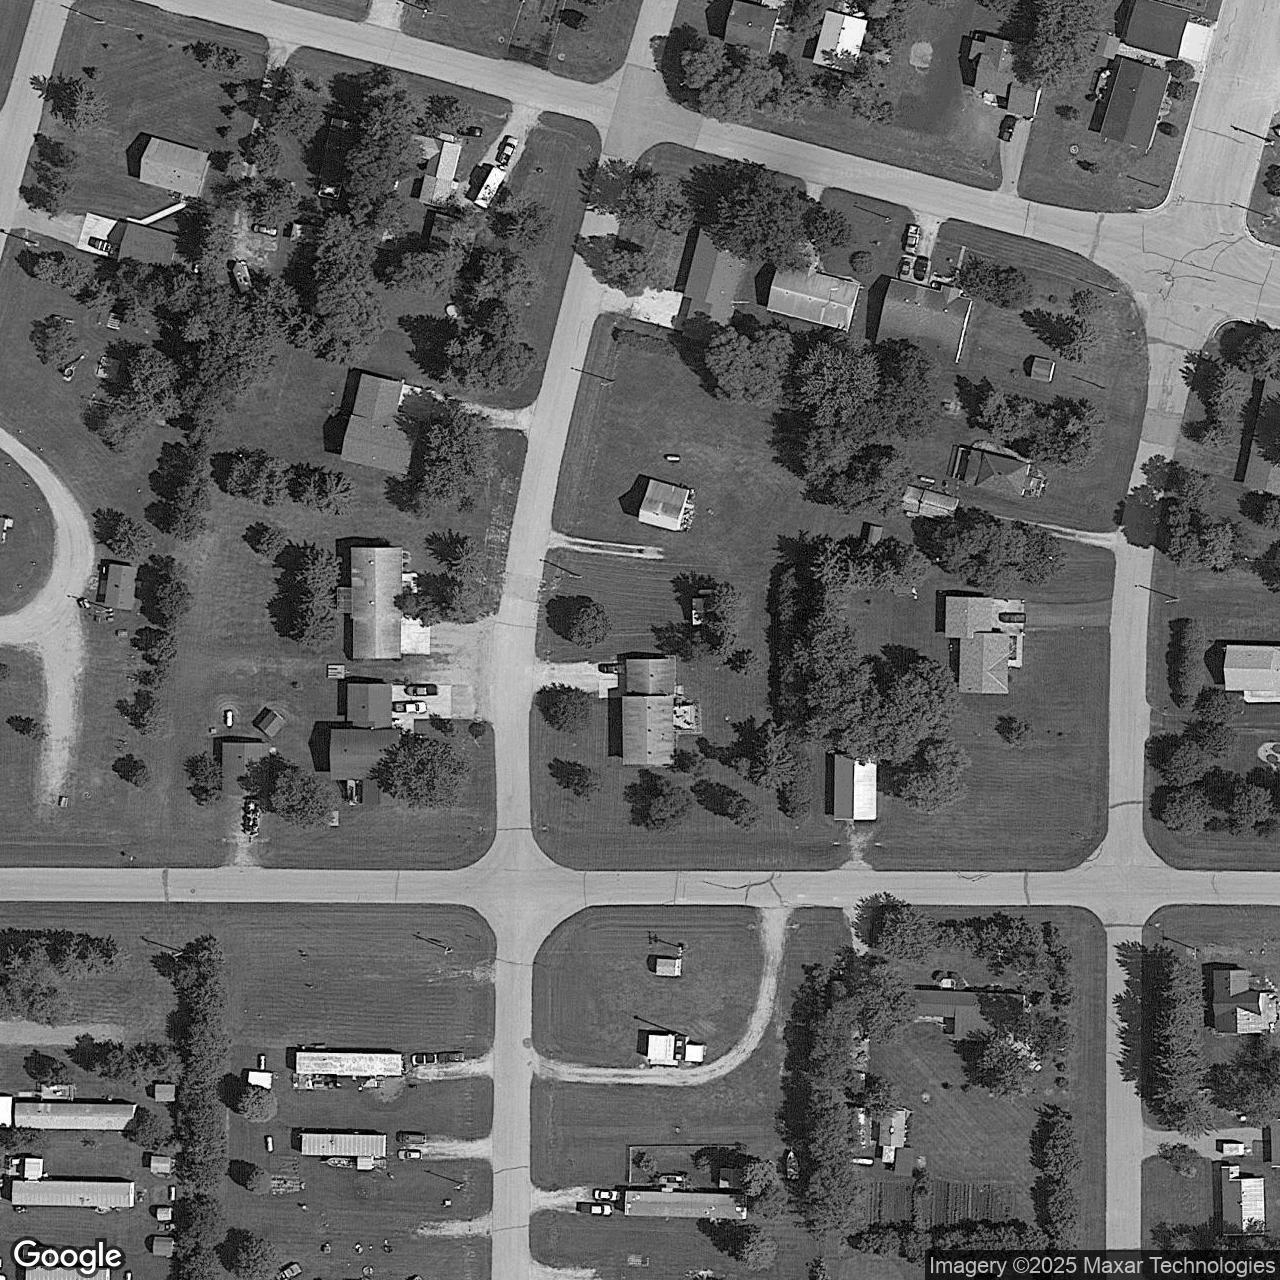Garage: (222, 743, 271, 796), (901, 485, 960, 524), (105, 565, 138, 610), (879, 1111, 905, 1146), (1095, 33, 1119, 61), (1030, 358, 1056, 381), (152, 1235, 173, 1257), (150, 1156, 172, 1173), (155, 1084, 176, 1102)
House: (331, 683, 401, 806), (682, 226, 751, 348), (876, 279, 974, 363), (340, 373, 420, 475), (336, 547, 402, 659), (968, 33, 1053, 118), (1098, 57, 1171, 149), (768, 261, 859, 332), (945, 597, 1009, 694), (908, 989, 1024, 1043), (621, 654, 675, 767), (139, 136, 211, 198), (406, 132, 462, 210), (812, 9, 869, 73), (118, 222, 179, 275), (1212, 969, 1262, 1033), (964, 449, 1030, 496), (1221, 1165, 1266, 1235), (724, 0, 779, 53), (833, 754, 877, 821), (639, 479, 690, 531), (1224, 645, 1279, 690)
Propane: (845, 1153, 876, 1167), (254, 1050, 270, 1071), (224, 708, 236, 729), (265, 1133, 277, 1155), (918, 474, 937, 485), (168, 1183, 178, 1203), (666, 454, 681, 463)
Trailer: (14, 1102, 138, 1131), (625, 1192, 748, 1219), (13, 1182, 135, 1207), (295, 1051, 402, 1075), (300, 1133, 387, 1157)
